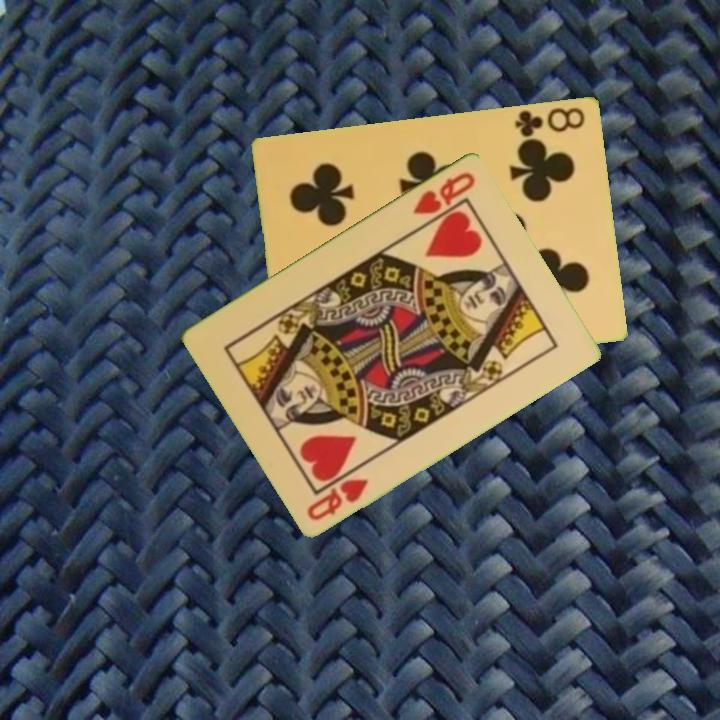8c: (511, 103, 588, 139)
Qh: (409, 168, 479, 217), (303, 474, 372, 523)
